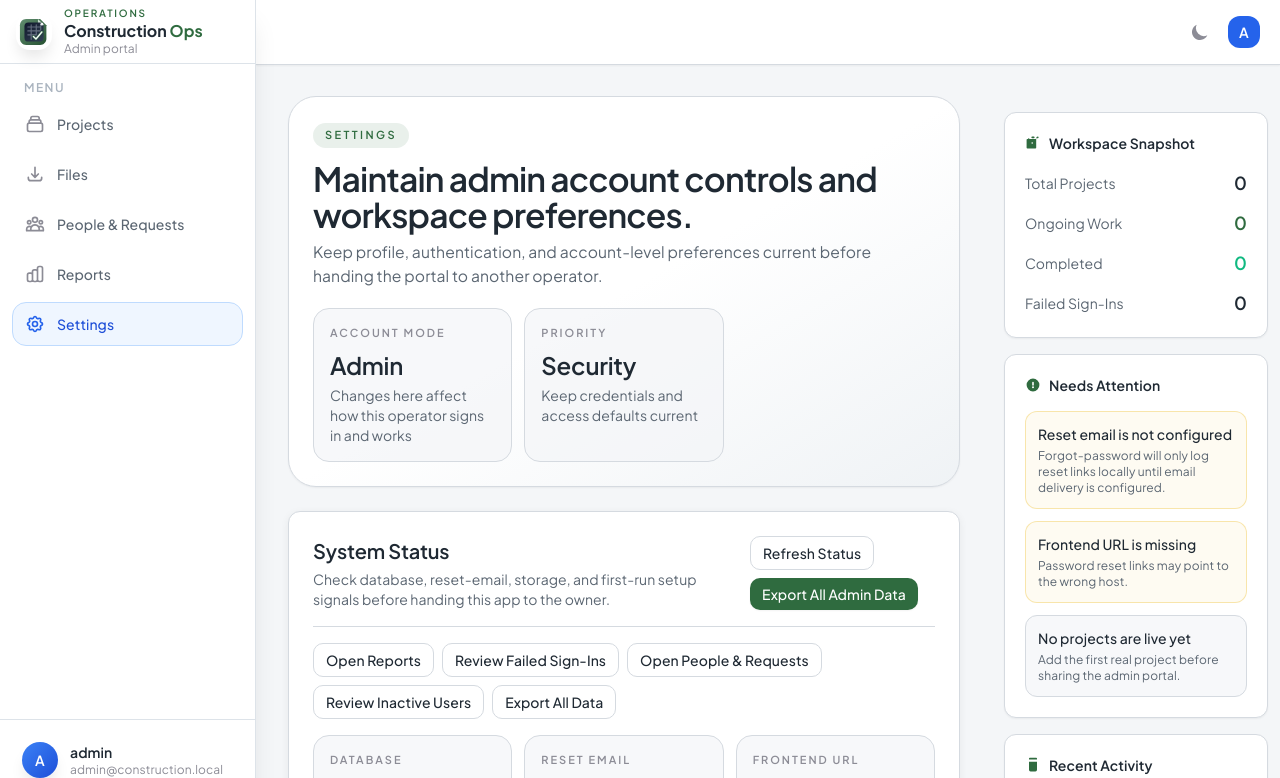
Test: AdminDashboard route shell › settings route links operators back to people and request management
This screenshot has width=1280, height=778.
Expected: the heading "System Status" is shown, left=313, top=538, right=449, bottom=563
Click the button "Open People & Requests": (724, 660) left=627, top=643, right=822, bottom=677
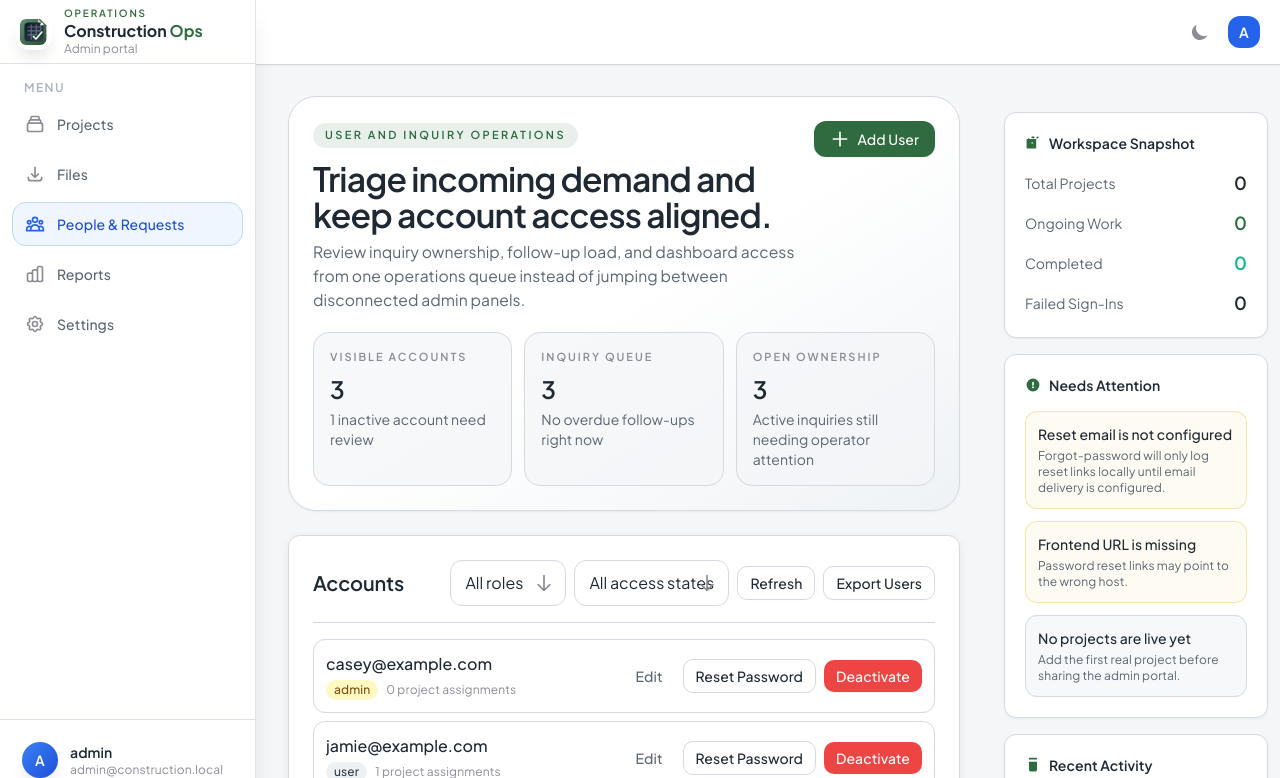
Now the heading "Triage incoming demand and keep account access aligned." is shown, box left=313, top=160, right=798, bottom=232
